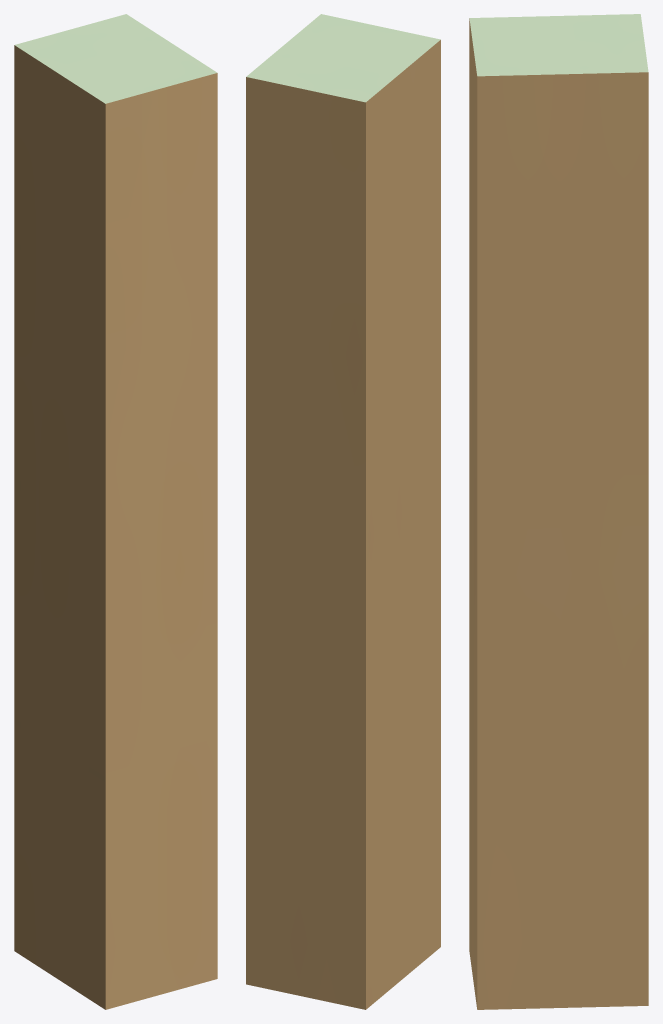
File: Blocks-195.fbx
The picture shows the model from 3 angles, left to right: view 1: azimuth 30°, elevation 25°; view 2: azimuth 150°, elevation 25°; view 3: azimuth 270°, elevation 25°; orthographic projection. The views are drawn at different scales.
Parts seen in each view (by area): view 1: Blocks-195; view 2: Blocks-195; view 3: Blocks-195.
Part boxes in pixels (x1=…): Blocks-195: x1=14, y1=14, x2=217, y2=1009; Blocks-195: x1=246, y1=14, x2=440, y2=1009; Blocks-195: x1=469, y1=14, x2=648, y2=1009.
Size of the model in its own units: 4499 by 31411 by 5461.
